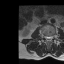CCS_normal: (47, 33, 49, 43)
LFS_normal: (51, 33, 54, 41)
LLS_normal: (49, 33, 52, 42)
RFS_normal: (43, 33, 45, 40)
RLS_normal: (45, 33, 47, 42)
